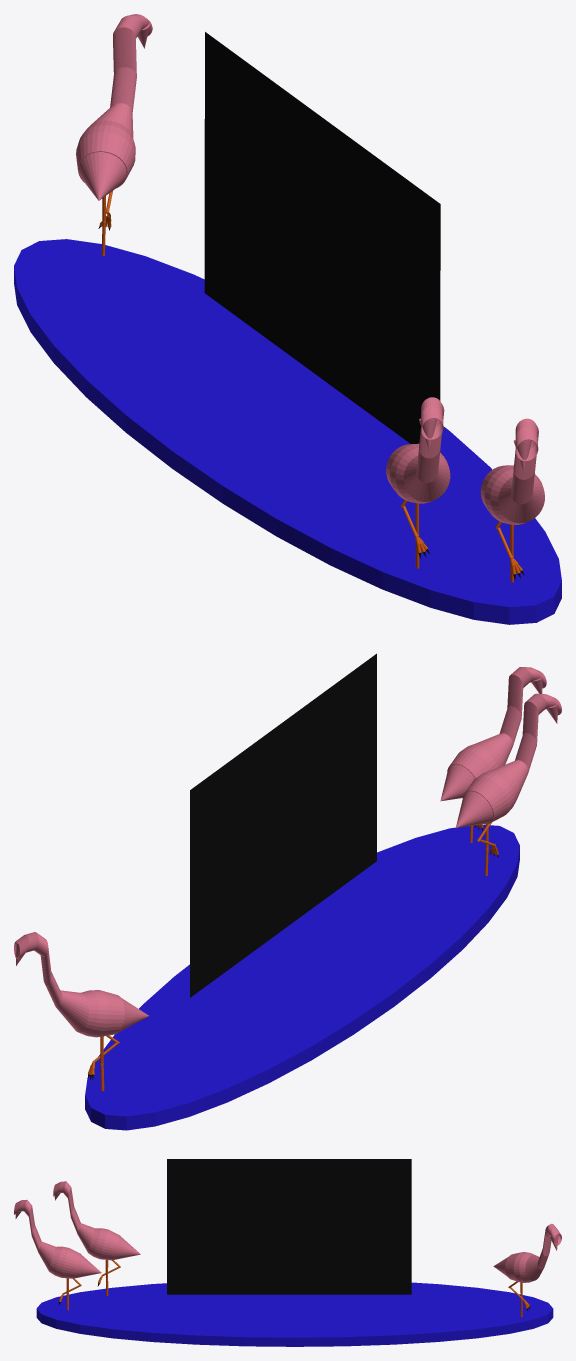
File: float10.fbx
3 renders of one model, top to bottom at view 1: azimuth 30°, elevation 25°; view 2: azimuth 150°, elevation 25°; view 3: azimuth 270°, elevation 25°, orthographic. The views are drawn at different scales.
Parts seen in each view (by area): view 1: Cylinder; view 2: Cylinder; view 3: Cylinder.
Boxes of the visible parts, x1=… form: Cylinder: x1=14, y1=14, x2=561, y2=624; Cylinder: x1=14, y1=653, x2=561, y2=1130; Cylinder: x1=14, y1=1159, x2=561, y2=1346.
Size of the model in its own units: 500 by 662 by 1980.
